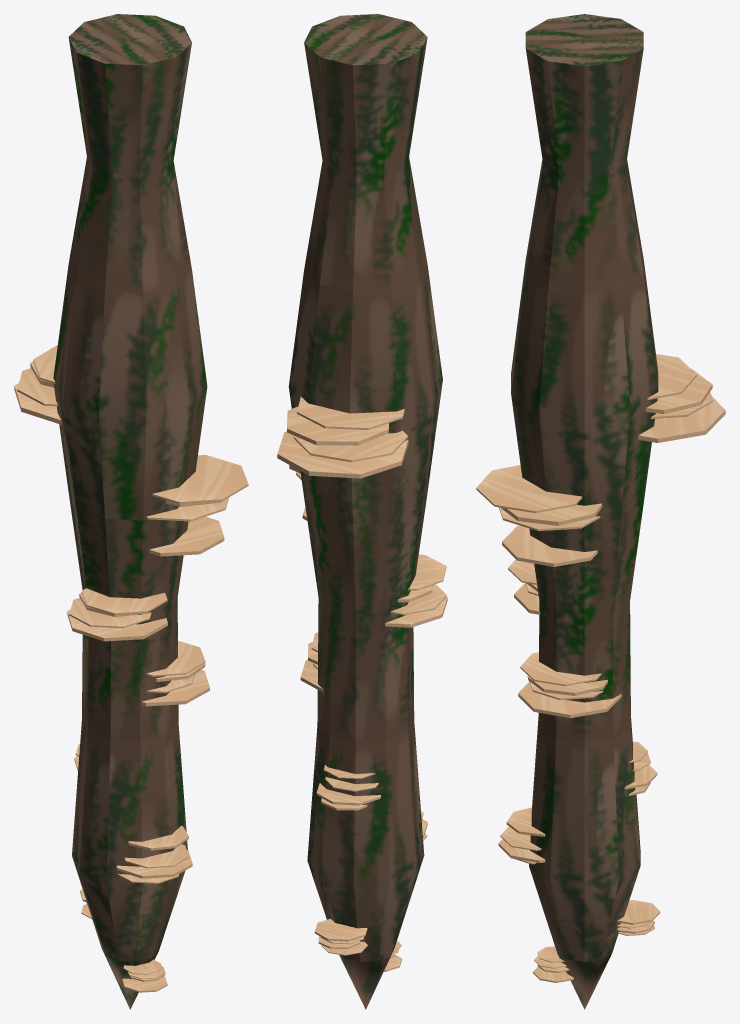
The model's file is Vine_MushrCave.fbx.
3 renders of one model, left to right at view 1: azimuth 30°, elevation 25°; view 2: azimuth 150°, elevation 25°; view 3: azimuth 270°, elevation 25°, orthographic.
Visible parts, largest first — view 1: pCylinder3, pCylinder2, Wood, pCylinder4, pCylinder14, pCylinder10 (×2), pCylinder11 (×2), pCylinder12 (×2), pCylinder6 (×2), pCylinder9 (×2), pCylinder17, pCylinder16 (+1 smaller); view 2: pCylinder2, pCylinder3, pCylinder4, Wood, pCylinder12 (×2), pCylinder10, pCylinder11 (×2), pCylinder13, pCylinder6 (×2), pCylinder17, pCylinder7; view 3: pCylinder3, pCylinder2, Wood, pCylinder4, pCylinder10 (×2), pCylinder14, pCylinder6 (×2), pCylinder8 (×2), pCylinder12, pCylinder15, pCylinder13, pCylinder9 (+1 smaller).
Boxes of the visible parts, bbox=[...] form: pCylinder3: bbox=[53, 265, 207, 520]; pCylinder2: bbox=[68, 14, 191, 292]; Wood: bbox=[72, 721, 187, 1009]; pCylinder4: bbox=[68, 493, 188, 742]; pCylinder14: bbox=[152, 455, 248, 503]; pCylinder10 (×2): bbox=[14, 383, 224, 556]; pCylinder11 (×2): bbox=[17, 368, 151, 628]; pCylinder12 (×2): bbox=[33, 345, 167, 614]; pCylinder6 (×2): bbox=[116, 670, 209, 878]; pCylinder9 (×2): bbox=[124, 640, 205, 868]; pCylinder17: bbox=[67, 609, 167, 641]; pCylinder16: bbox=[146, 497, 228, 521]; pCylinder2: bbox=[304, 14, 427, 292]; pCylinder3: bbox=[288, 265, 442, 520]; pCylinder4: bbox=[304, 492, 427, 742]; Wood: bbox=[307, 720, 424, 1009]; pCylinder12 (×2): bbox=[297, 396, 446, 590]; pCylinder10: bbox=[277, 431, 408, 478]; pCylinder11 (×2): bbox=[293, 430, 446, 615]; pCylinder13: bbox=[287, 406, 388, 445]; pCylinder6 (×2): bbox=[314, 783, 380, 941]; pCylinder17: bbox=[385, 597, 447, 627]; pCylinder7: bbox=[325, 776, 378, 791]; pCylinder3: bbox=[511, 260, 658, 519]; pCylinder2: bbox=[525, 14, 643, 293]; Wood: bbox=[529, 716, 640, 1009]; pCylinder4: bbox=[529, 503, 643, 742]; pCylinder10 (×2): bbox=[502, 396, 725, 566]; pCylinder14: bbox=[476, 465, 582, 513]; pCylinder6 (×2): bbox=[518, 682, 660, 924]; pCylinder8 (×2): bbox=[506, 676, 607, 836]; pCylinder12: bbox=[647, 354, 696, 399]; pCylinder15: bbox=[501, 503, 602, 525]; pCylinder13: bbox=[645, 368, 712, 413]; pCylinder9: bbox=[520, 652, 601, 686].
Size of the model in its own units: 0.3521 by 2.02 by 0.4708.
1 material, 1 textured.
